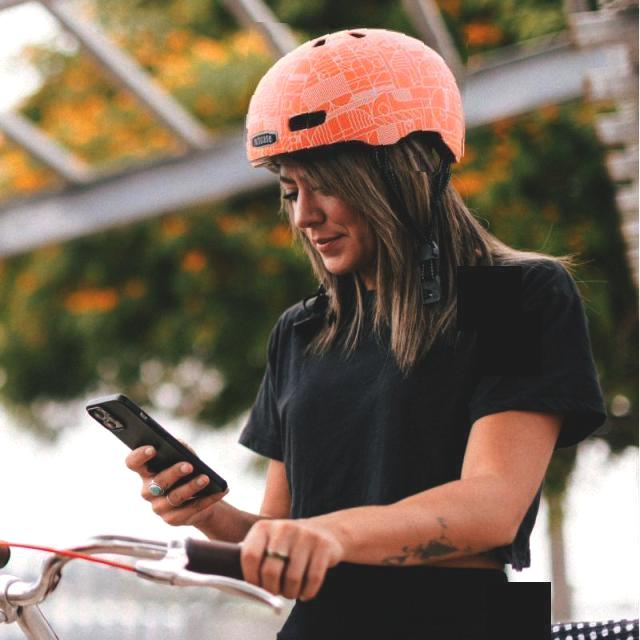helmet: (244, 24, 468, 171)
